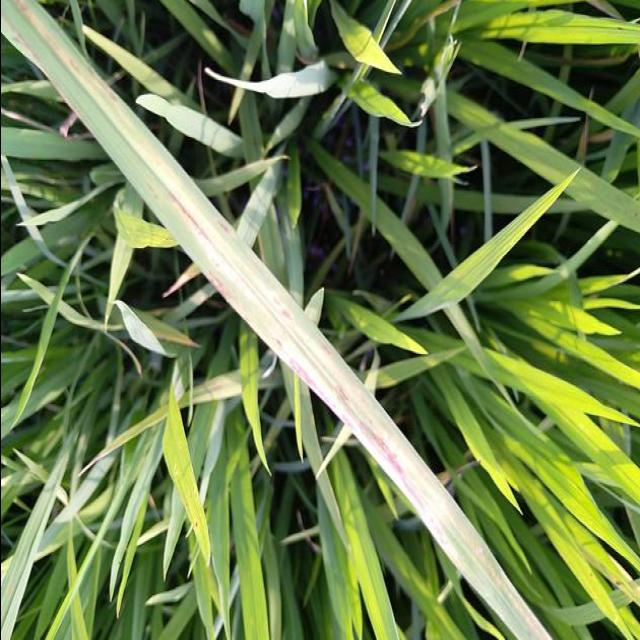Leaf Blight: (11, 0, 113, 111), (329, 384, 417, 498), (474, 548, 550, 640), (167, 193, 217, 248), (284, 358, 322, 395), (202, 271, 234, 304), (276, 308, 293, 324), (217, 217, 231, 235), (273, 338, 280, 347)
